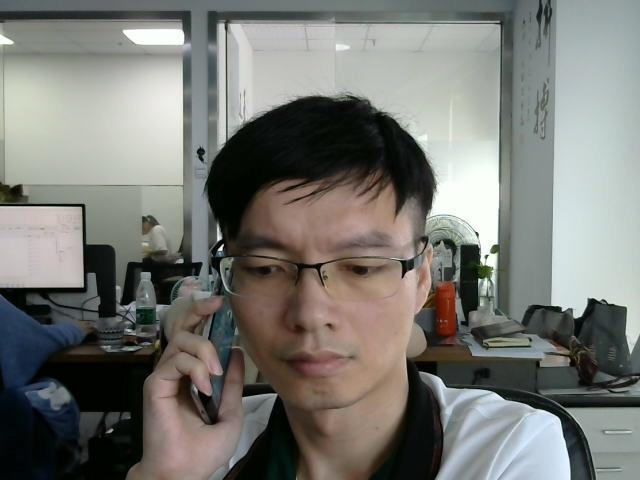hand: (146, 295, 245, 448)
